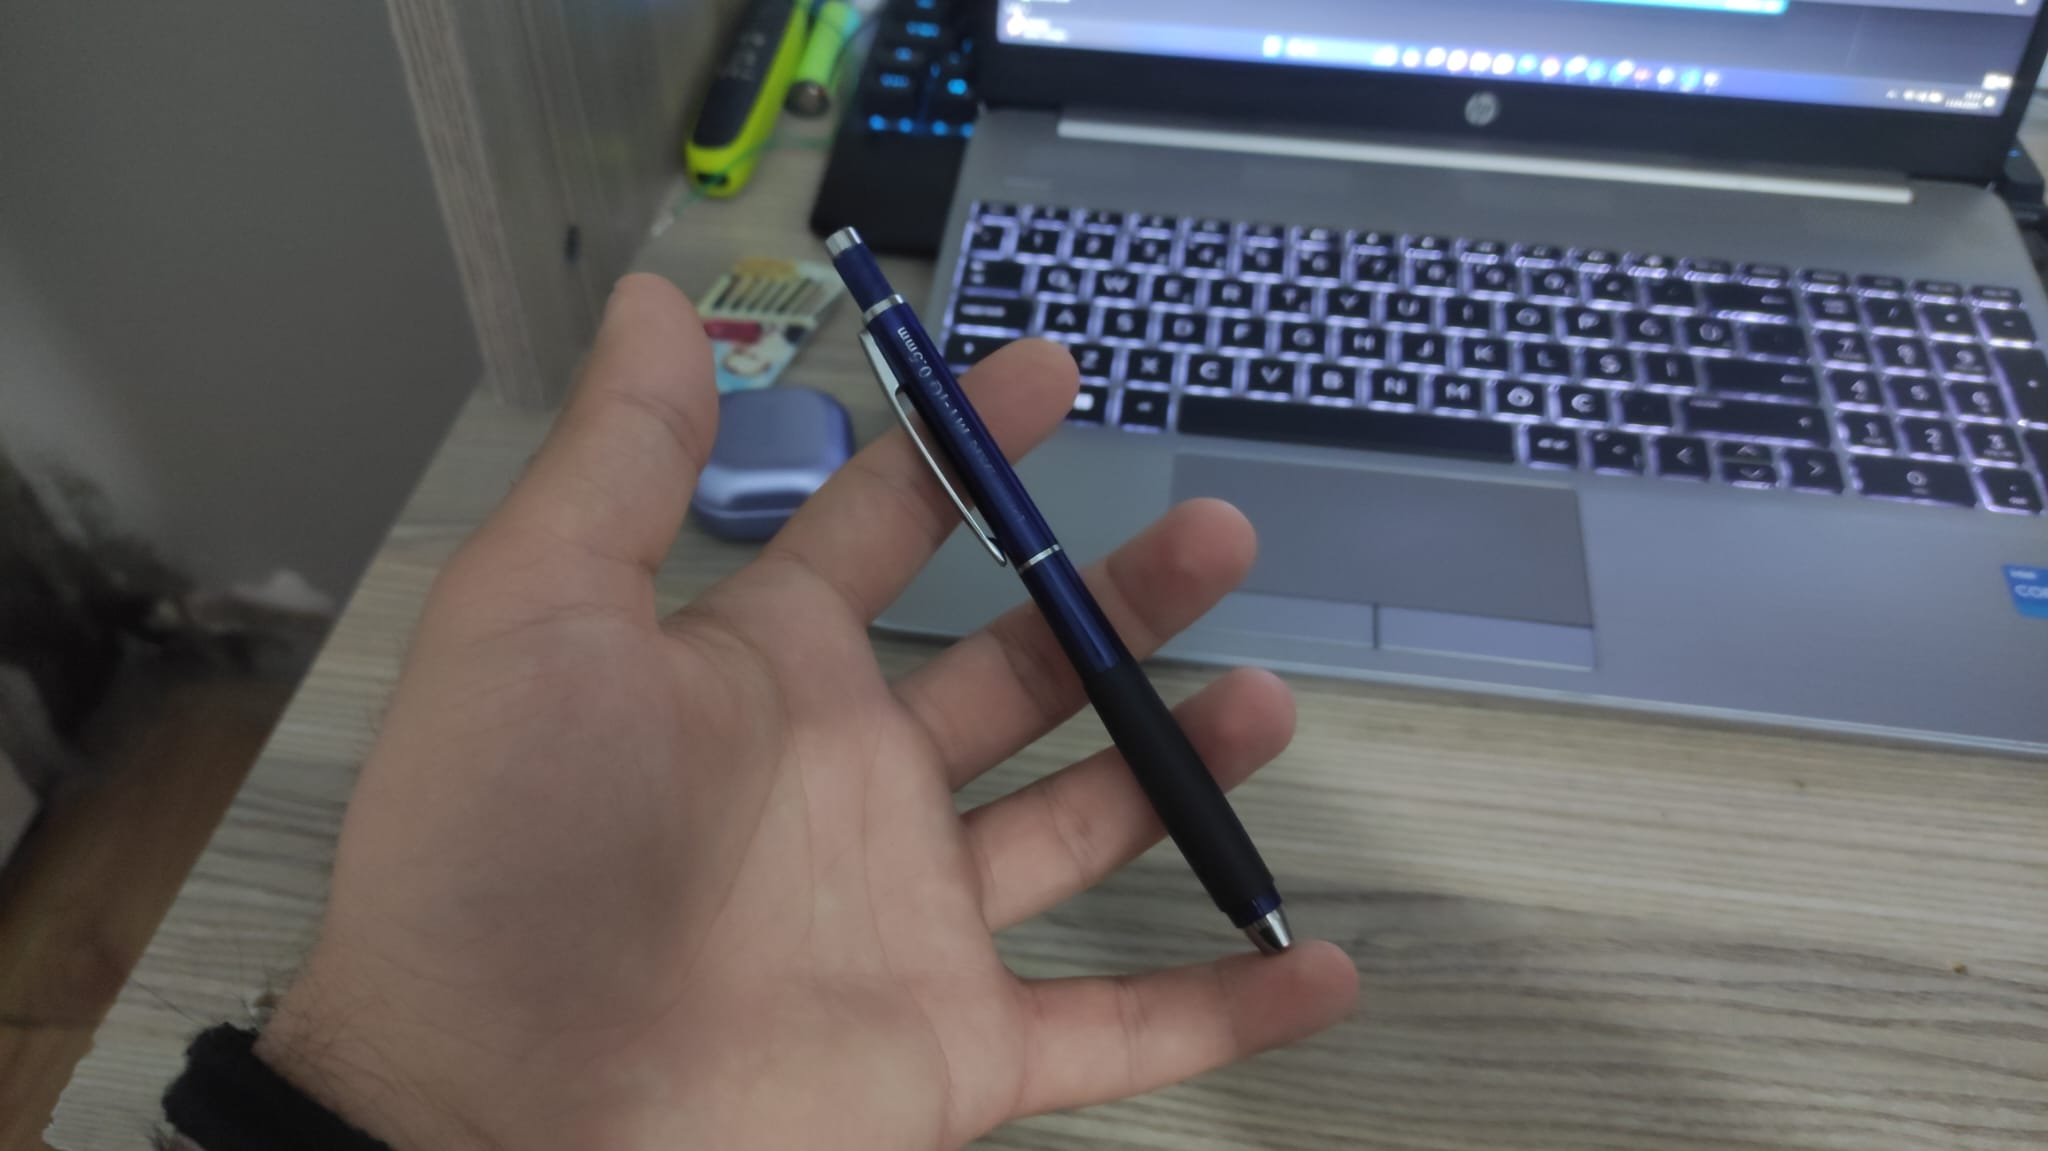kalem: (812, 222, 1295, 955)
